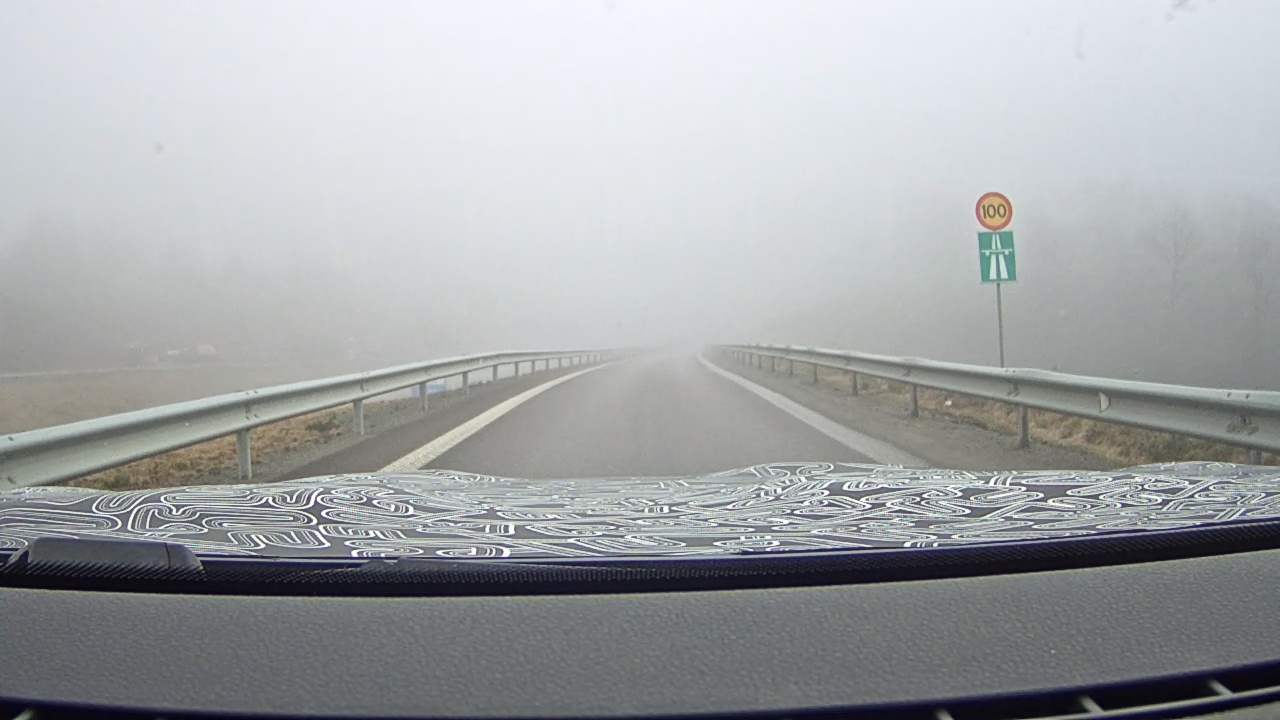Motorway_Begin: (977, 229, 1016, 286)
